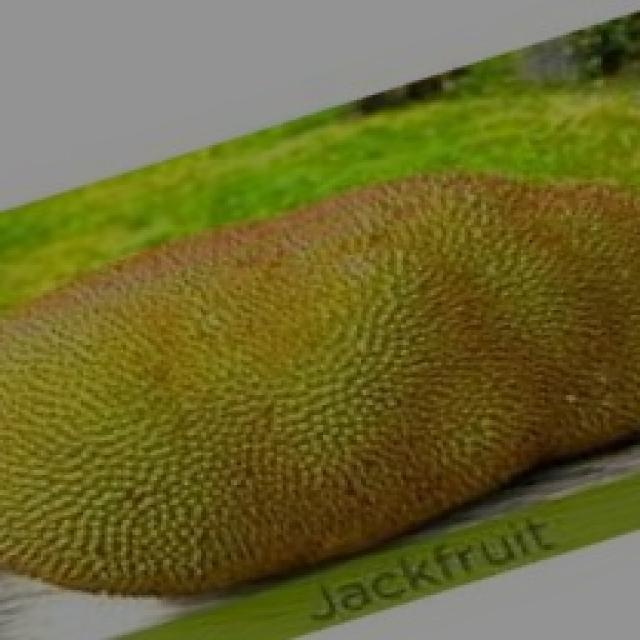Fruit: (0, 195, 397, 635), (234, 122, 640, 538)
